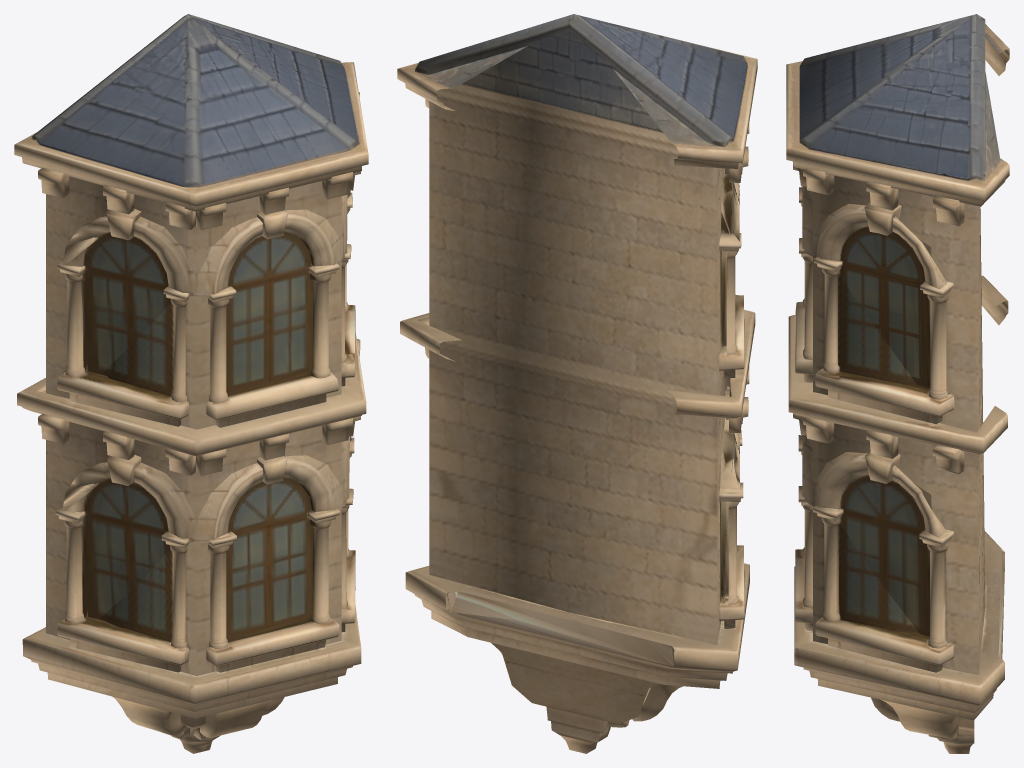
File: Furn_BayWindow2.fbx
The picture shows the model from 3 angles, left to right: view 1: azimuth 30°, elevation 25°; view 2: azimuth 150°, elevation 25°; view 3: azimuth 270°, elevation 25°; orthographic projection.
Visible parts, largest first — view 1: Furn_BayWindow2; view 2: Furn_BayWindow2; view 3: Furn_BayWindow2.
Part boxes in pixels (x1=…): Furn_BayWindow2: x1=14, y1=14, x2=368, y2=753; Furn_BayWindow2: x1=397, y1=14, x2=757, y2=753; Furn_BayWindow2: x1=786, y1=14, x2=1009, y2=753.
Size of the model in its own units: 3.42 by 7 by 1.93.
Materials: 1 (1 with a texture image).
